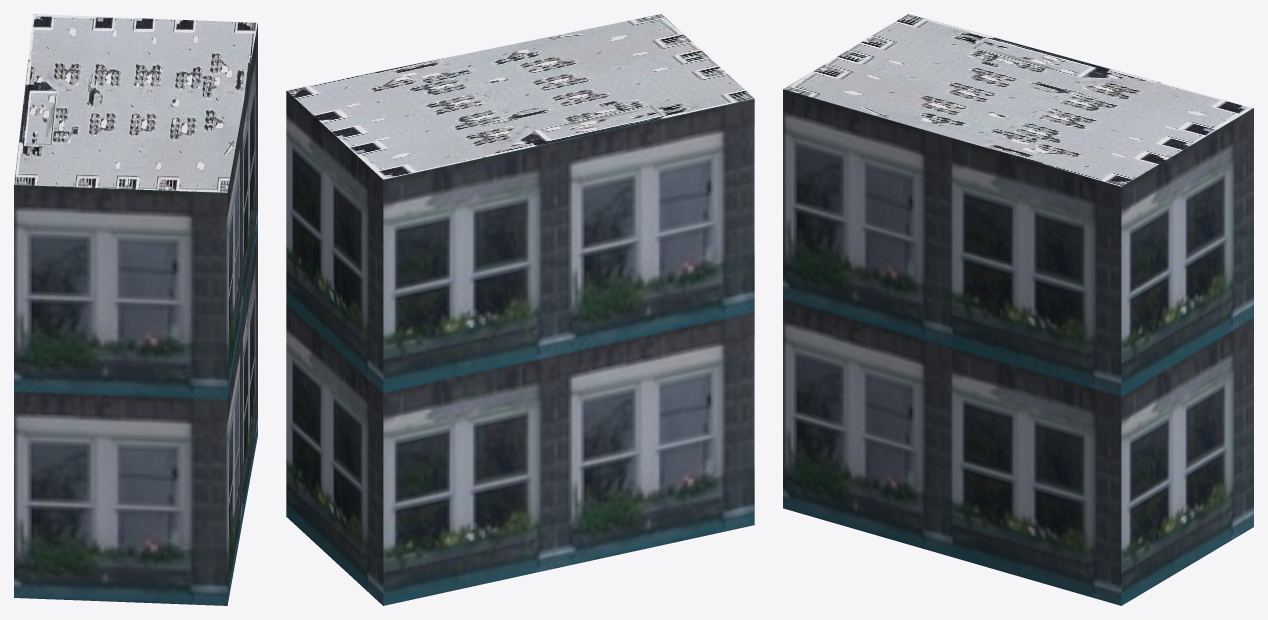
Rendered from ResTex__1836.fbx.
3 views of the same model, side by side, from view 1: azimuth 30°, elevation 25°; view 2: azimuth 150°, elevation 25°; view 3: azimuth 270°, elevation 25° (orthographic). The views are drawn at different scales.
Visible parts, largest first — view 1: CityEngineMaterial_11_m, CityEngineMaterial_2_m; view 2: CityEngineMaterial_11_m, CityEngineMaterial_2_m; view 3: CityEngineMaterial_11_m, CityEngineMaterial_2_m.
Part boxes in pixels (x1=…): CityEngineMaterial_11_m: x1=14, y1=24, x2=257, y2=605; CityEngineMaterial_2_m: x1=14, y1=14, x2=257, y2=192; CityEngineMaterial_11_m: x1=286, y1=91, x2=754, y2=605; CityEngineMaterial_2_m: x1=286, y1=14, x2=754, y2=179; CityEngineMaterial_11_m: x1=783, y1=89, x2=1253, y2=605; CityEngineMaterial_2_m: x1=783, y1=14, x2=1253, y2=186.
Size of the model in its own units: 5.31 by 6 by 6.11.
Materials: 2 (2 with a texture image).
